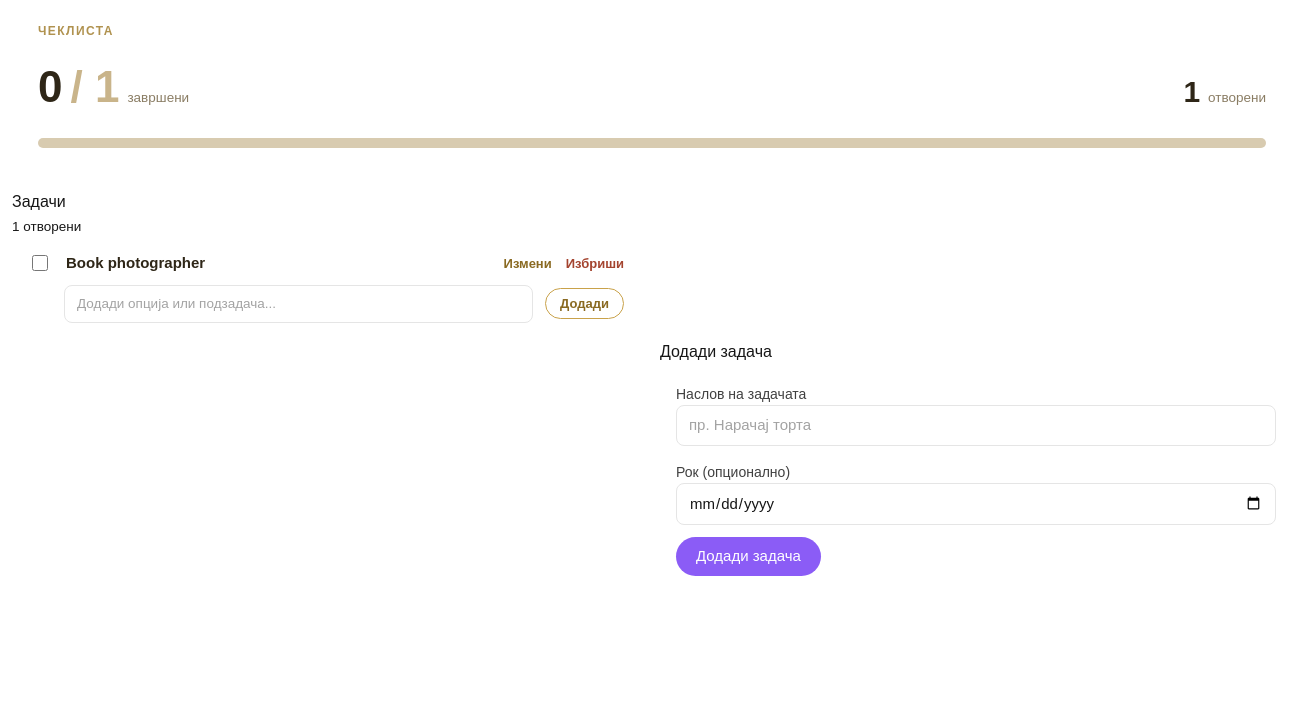
ChecklistClient › deletes a task
Click the button with aria-label "избриши book photographer". click: x=595, y=263
box: [566,254,624,273]
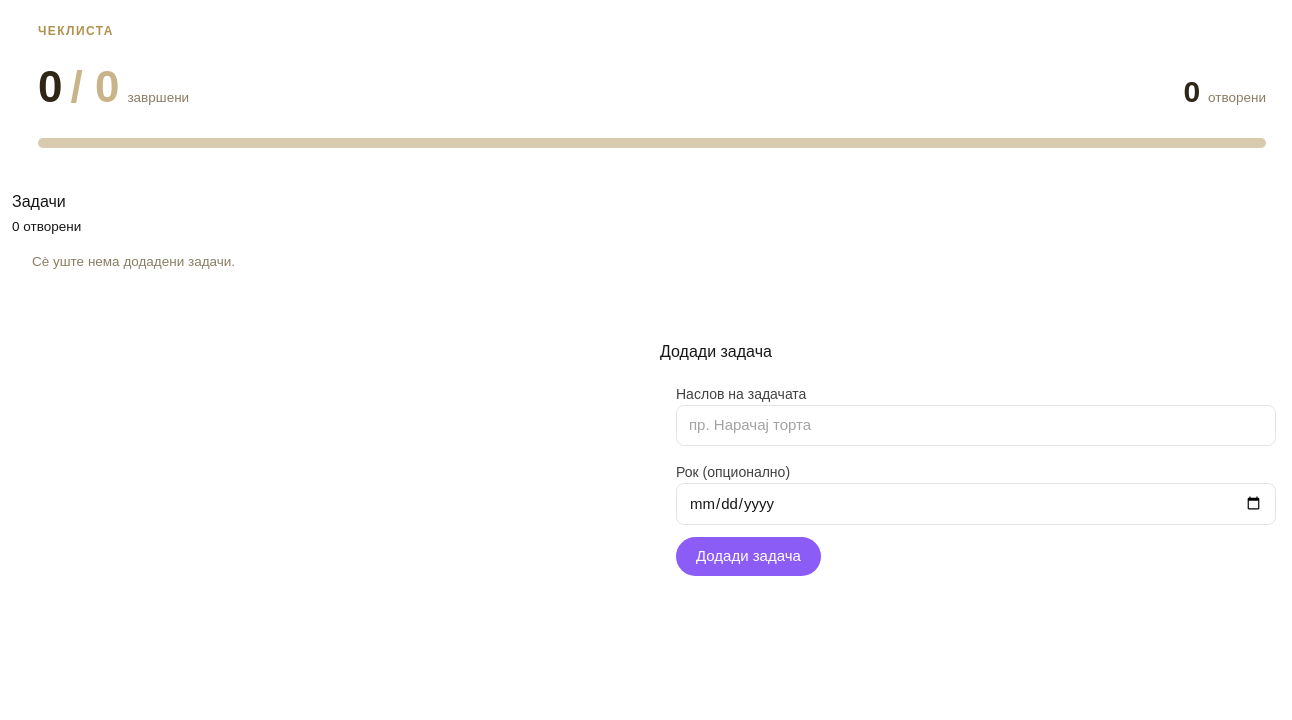
Expected: the text "Book photographer" is gone
